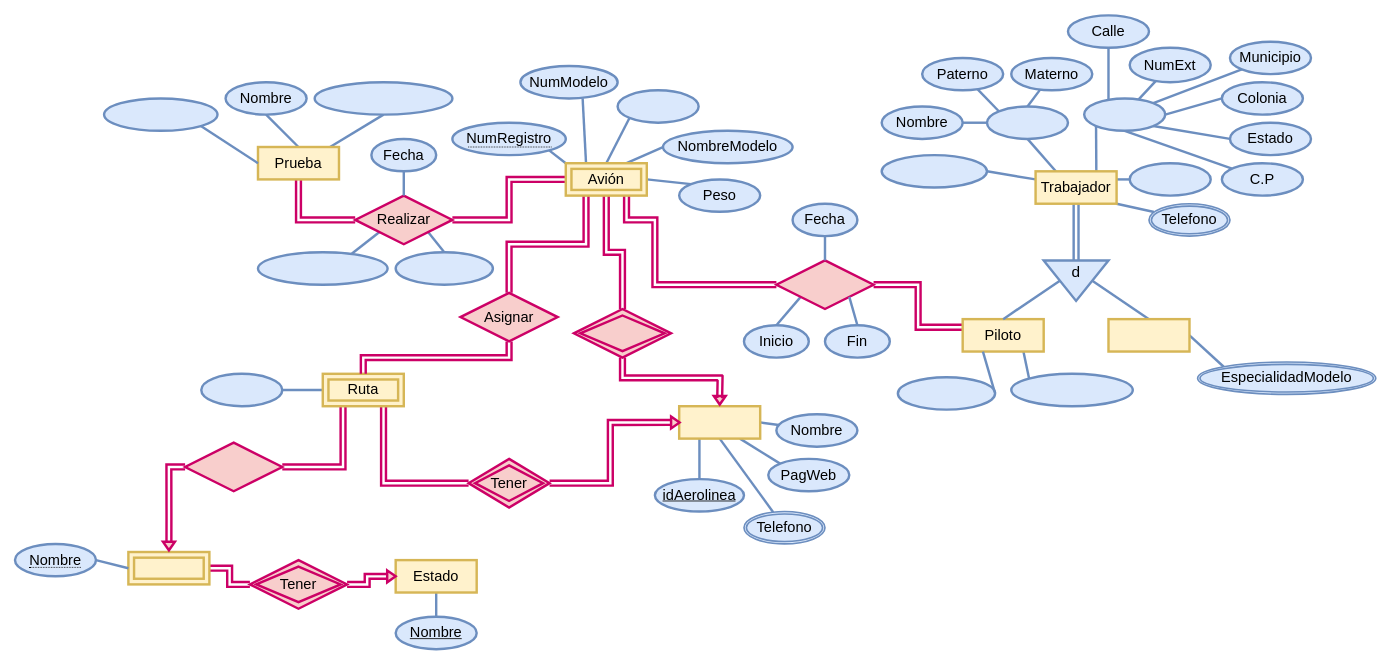
This 1391x664 diagram has some shape labels left out. Here are the shapes that lost their labels. From the top down, the centre of each, then its label:
At (x=160, y=114): "NumPrueba".
At (x=383, y=98): "MaxPuntuacion".
At (x=657, y=106): "Capacidad".
At (x=1124, y=114): "Dirección".
At (x=1027, y=122): "NombreC".
At (x=934, y=170): "idTrabajador".
At (x=1170, y=179): "Salario".
At (x=322, y=268): "DuraciónHoras".
At (x=444, y=268): "Puntuación".
At (x=824, y=284): "Pilotar".
At (x=622, y=332): "Poseer".
At (x=1148, y=335): "Técnico".
At (x=241, y=389): "NumRuta".
At (x=946, y=393): "HorasVuelo".
At (x=1072, y=389): "TipoLicencia".
At (x=719, y=422): "Aerolinea".
At (x=233, y=466): "Operar".
At (x=168, y=567): "Ciudad".
